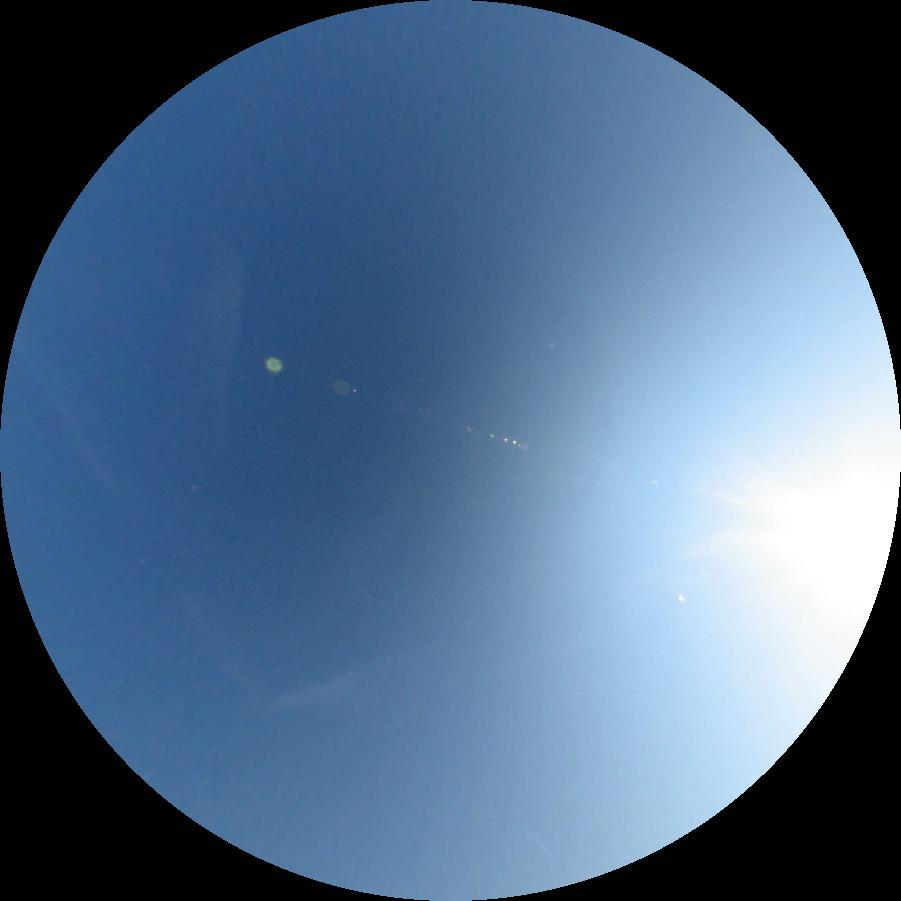contrail maybe: (374, 250, 413, 266), (354, 578, 375, 603), (526, 828, 548, 850)
contrail old: (14, 340, 261, 712)
sun: (775, 430, 899, 636)
